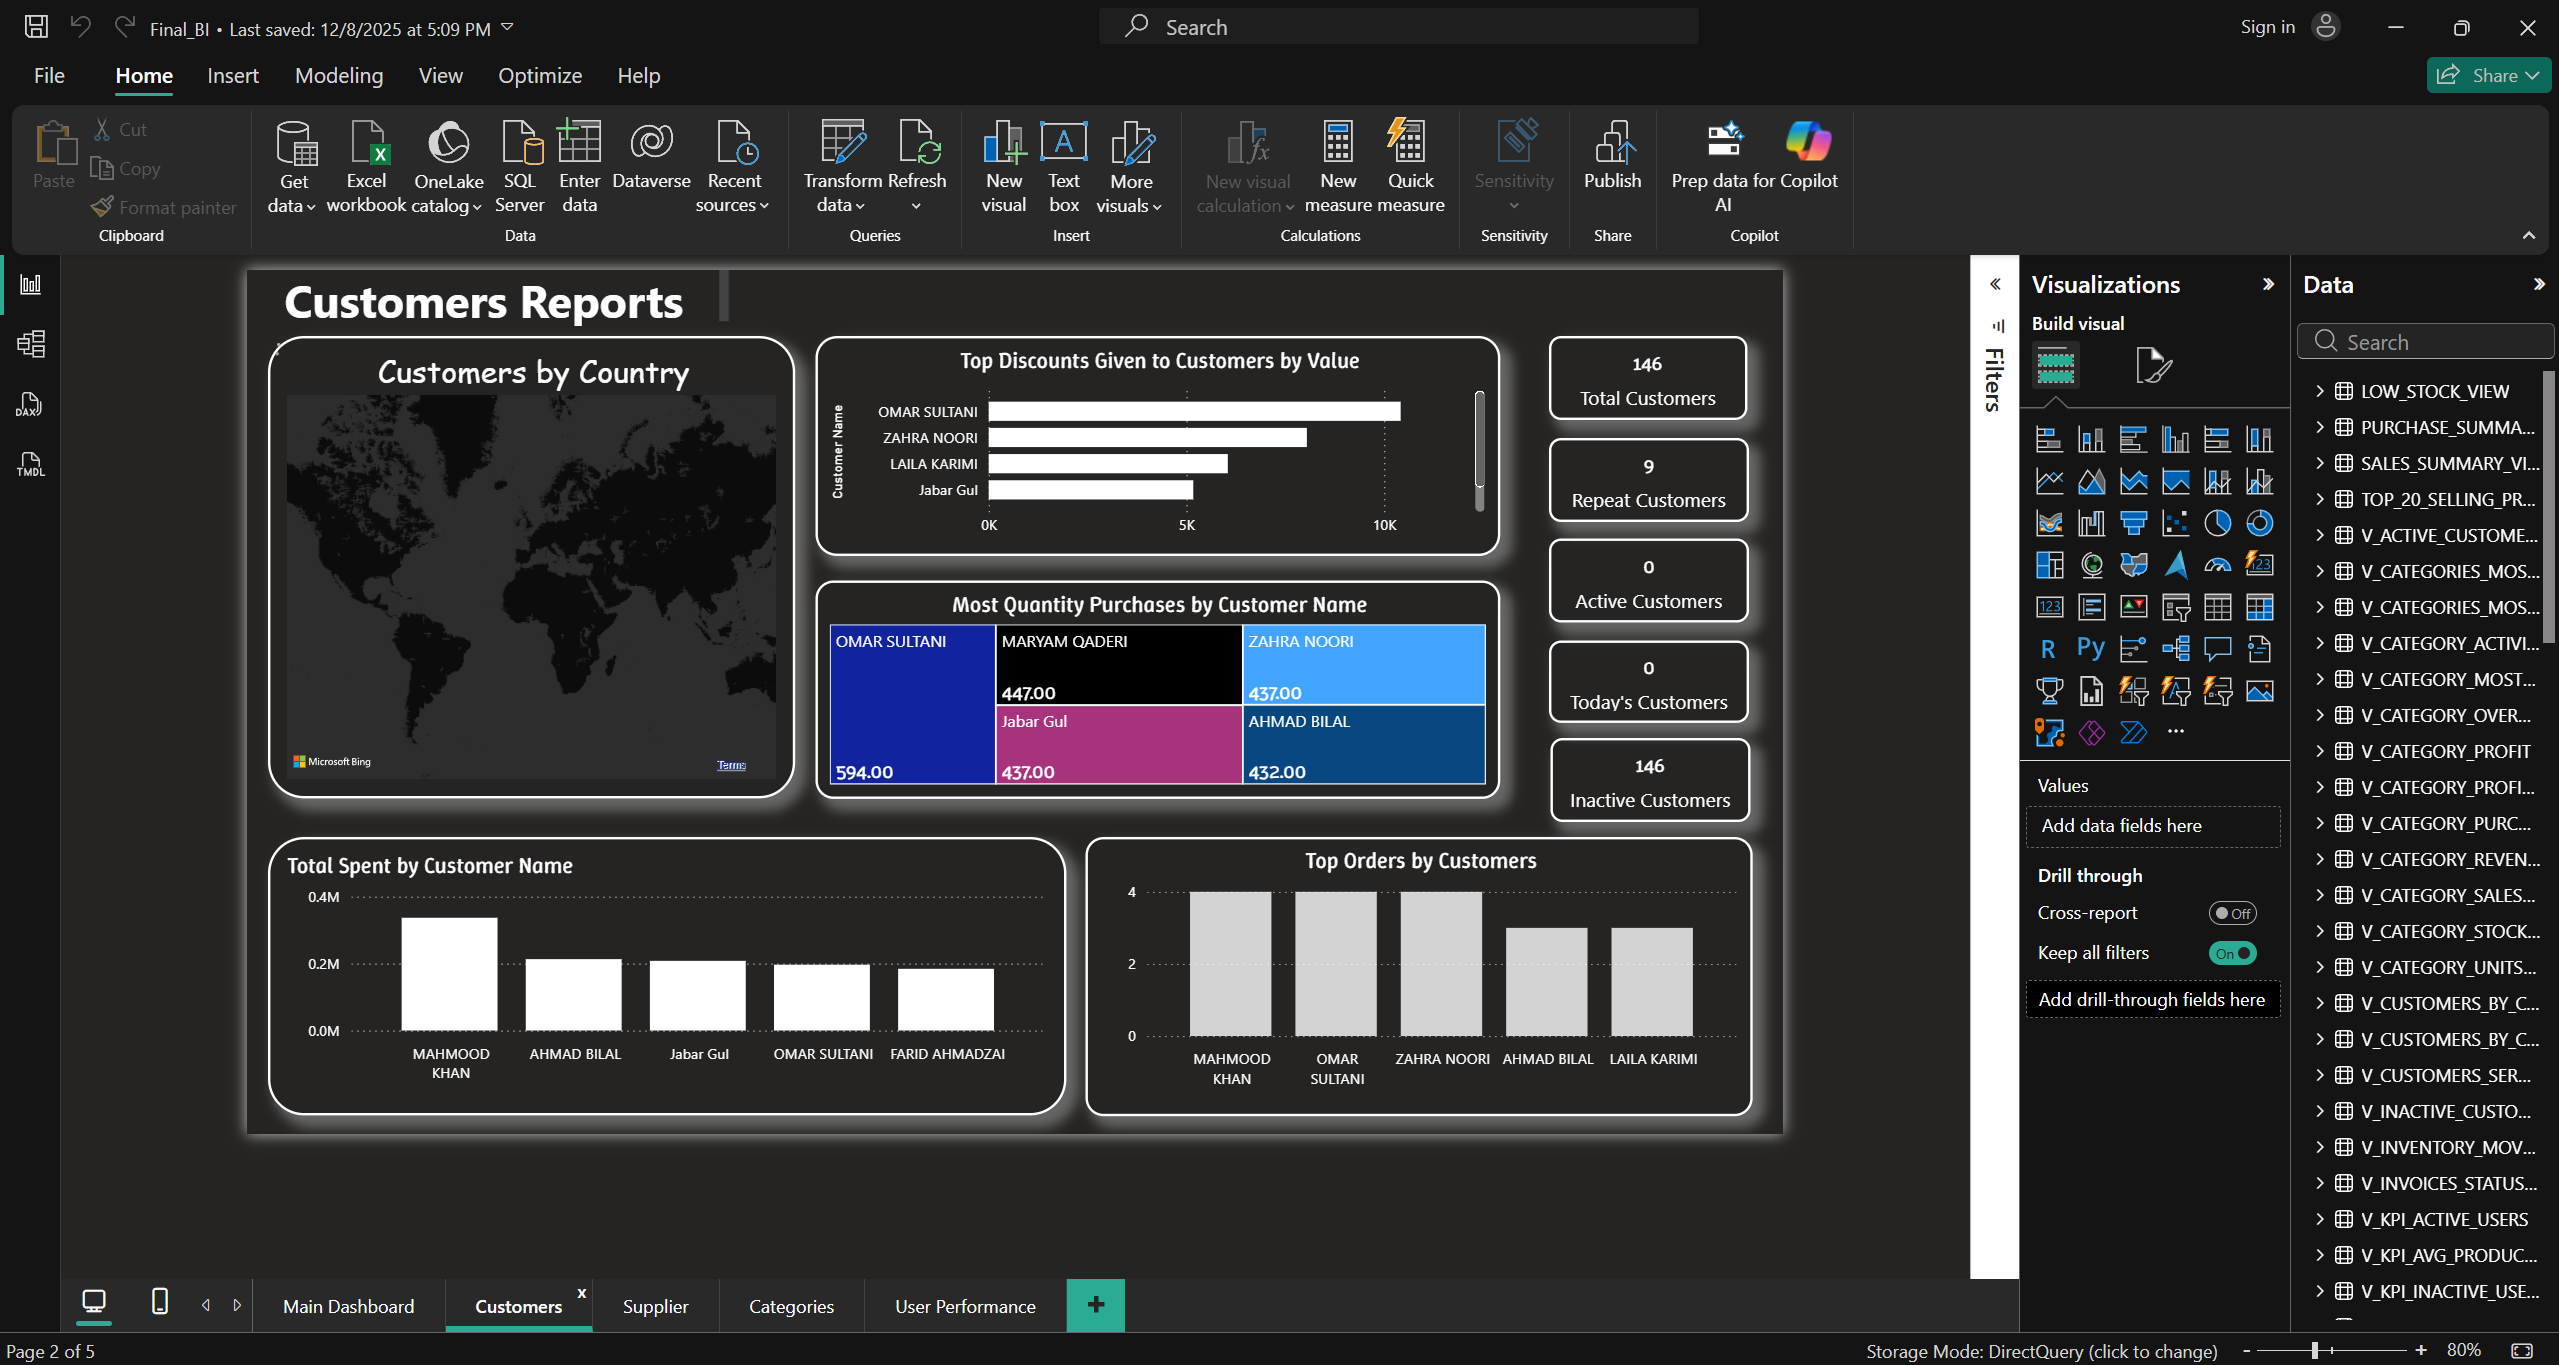

What the dashboard file says about the page in this screenshot:
{"tool":"powerbi","page":{"name":"Customers","canvas":[1280,720],"ordinal":1},"visuals":[{"type":"map","title":"Customers by Country","fields":{"Category":["V_CUSTOMERS_BY_COUNTRY (2).COUNTRY"],"Size":["V_CUSTOMERS_BY_COUNTRY (2).TOTAL_CUSTOMERS"]},"box":[17,55,439,385],"z":0},{"type":"card","fields":{"Values":["V_INACTIVE_CUSTOMERS_LAST30DAYS.INACTIVE_CUSTOMERS"]},"box":[1086.7,390,166.7,70],"z":1000},{"type":"card","fields":{"Values":["V_CUSTOMERS_SERVED_TODAY.CUSTOMERS_SERVED"]},"box":[1085,308.3,166.7,68.3],"z":2000},{"type":"clusteredColumnChart","fields":{"Category":["V_TOP5_CUSTOMERS_BY_SPEND.CUSTOMER_NAME"],"Y":["V_TOP5_CUSTOMERS_BY_SPEND.TOTAL_SPENT"]},"box":[17.2,473.1,665.2,232.3],"z":3000},{"type":"card","fields":{"Values":["V_TOTAL_CUSTOMERS.TOTAL_CUSTOMERS"]},"box":[1085,55,165,70],"z":4000},{"type":"card","fields":{"Values":["V_ACTIVE_CUSTOMERS_COUNT.ACTIVE_CUSTOMERS"]},"box":[1085,223.3,166.7,70],"z":5000},{"type":"card","fields":{"Values":["V_REPEAT_CUSTOMERS_COUNT.REPEAT_CUSTOMERS"]},"box":[1085,140,166.7,70],"z":6000},{"type":"barChart","title":"Top Discounts Given to Customers by Value","fields":{"Category":["V_TOP5_CUSTOMERS_BY_DISCOUNT.CUSTOMER_NAME"],"Y":["V_TOP5_CUSTOMERS_BY_DISCOUNT.TOTAL_DISCOUNT_VALUE"]},"box":[473.6,54.4,570.5,183.1],"z":7000},{"type":"clusteredColumnChart","title":"Top Orders by Customers","fields":{"Category":["V_TOP5_CUSTOMERS_BY_ORDERS.CUSTOMER_NAME"],"Y":["V_TOP5_CUSTOMERS_BY_ORDERS.TOTAL_ORDERS"]},"box":[698.6,472.9,555.7,232.9],"z":8000},{"type":"treemap","fields":{"Values":["V_TOP_CUSTOMERS_BY_QUANTITY.TOTAL_QUANTITY_PURCHASED"],"Group":["V_TOP_CUSTOMERS_BY_QUANTITY.CUSTOMER_NAME"]},"box":[473.6,258.7,570.5,181.8],"z":9000},{"type":"textbox","box":[25.7,0,380,45.7],"z":10000}]}

Visuals, with their boxes on the page's 1280x720 design canvas (x1, y1, x2, y2). These are canvas units, not pixel positions in the 2559x1365 screenshot, which may show the page scaled, cropped or inside an application window:
"Customers by Country" map: BBox(17, 55, 456, 440)
card - V_INACTIVE_CUSTOMERS_LAST30DAYS.INACTIVE_CUSTOMERS: BBox(1087, 390, 1253, 460)
card - V_CUSTOMERS_SERVED_TODAY.CUSTOMERS_SERVED: BBox(1085, 308, 1252, 377)
clusteredColumnChart - V_TOP5_CUSTOMERS_BY_SPEND.CUSTOMER_NAME x V_TOP5_CUSTOMERS_BY_SPEND.TOTAL_SPENT: BBox(17, 473, 682, 705)
card - V_TOTAL_CUSTOMERS.TOTAL_CUSTOMERS: BBox(1085, 55, 1250, 125)
card - V_ACTIVE_CUSTOMERS_COUNT.ACTIVE_CUSTOMERS: BBox(1085, 223, 1252, 293)
card - V_REPEAT_CUSTOMERS_COUNT.REPEAT_CUSTOMERS: BBox(1085, 140, 1252, 210)
"Top Discounts Given to Customers by Value" barChart: BBox(474, 54, 1044, 238)
"Top Orders by Customers" clusteredColumnChart: BBox(699, 473, 1254, 706)
treemap - V_TOP_CUSTOMERS_BY_QUANTITY.TOTAL_QUANTITY_PURCHASED x V_TOP_CUSTOMERS_BY_QUANTITY.CUSTOMER_NAME: BBox(474, 259, 1044, 440)
textbox: BBox(26, 0, 406, 46)
